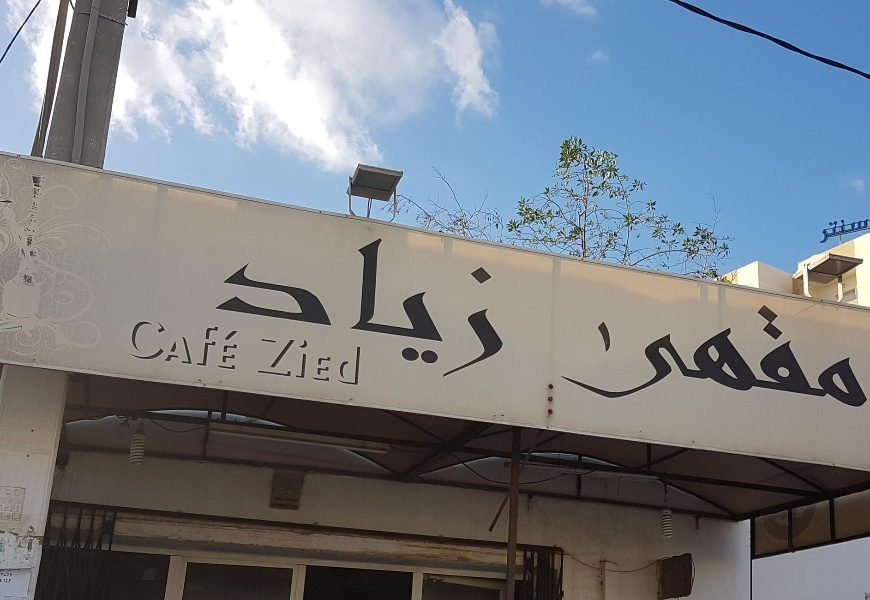text: (241, 215, 256, 392), (257, 215, 272, 392), (273, 215, 288, 392), (289, 215, 304, 392), (305, 215, 320, 392), (321, 215, 336, 392), (337, 215, 352, 392), (353, 215, 368, 392), (369, 215, 384, 392), (385, 215, 400, 392), (401, 215, 416, 392), (417, 215, 432, 392), (433, 215, 448, 392), (449, 215, 464, 392), (465, 215, 480, 392), (481, 215, 496, 392), (497, 215, 512, 392), (593, 299, 608, 433), (609, 299, 624, 433), (625, 299, 640, 433), (641, 299, 656, 433), (657, 299, 672, 433), (673, 299, 688, 433), (689, 299, 704, 433), (705, 299, 720, 433), (721, 299, 736, 433), (737, 299, 752, 433), (753, 299, 768, 433), (769, 299, 784, 433), (785, 299, 800, 433), (801, 299, 816, 433), (817, 299, 832, 433), (833, 299, 848, 433), (849, 299, 864, 433), (230, 215, 240, 392), (513, 215, 519, 392), (145, 314, 160, 373), (161, 314, 176, 373), (177, 314, 192, 373), (193, 314, 208, 373), (209, 314, 224, 373), (225, 314, 240, 373), (273, 331, 288, 388), (289, 331, 304, 388), (305, 331, 320, 388), (321, 331, 336, 388), (337, 331, 352, 388), (260, 331, 272, 388), (865, 299, 869, 433), (136, 314, 144, 373), (353, 331, 361, 388), (833, 215, 848, 245), (849, 215, 864, 245), (823, 215, 832, 245), (865, 215, 870, 245), (1, 505, 16, 512), (1, 578, 16, 584), (1, 572, 16, 578), (5, 489, 16, 497), (241, 314, 242, 373), (17, 489, 19, 497)
